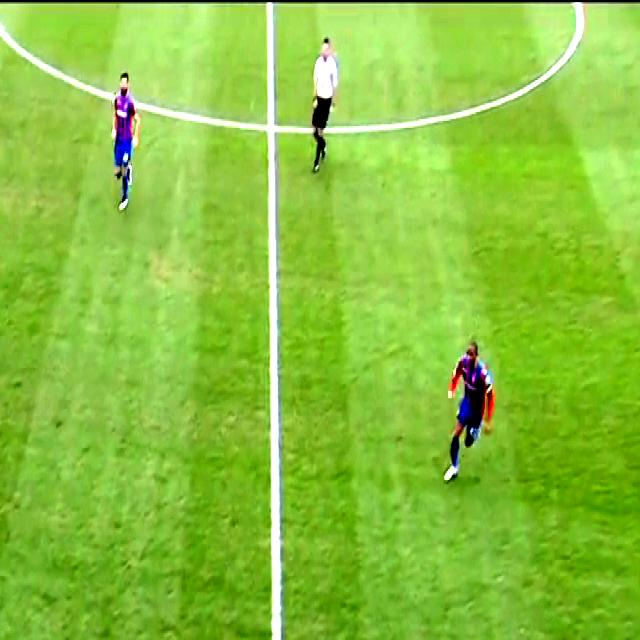referee: (296, 33, 348, 181)
soccer-player: (437, 335, 507, 492), (96, 68, 148, 218)
